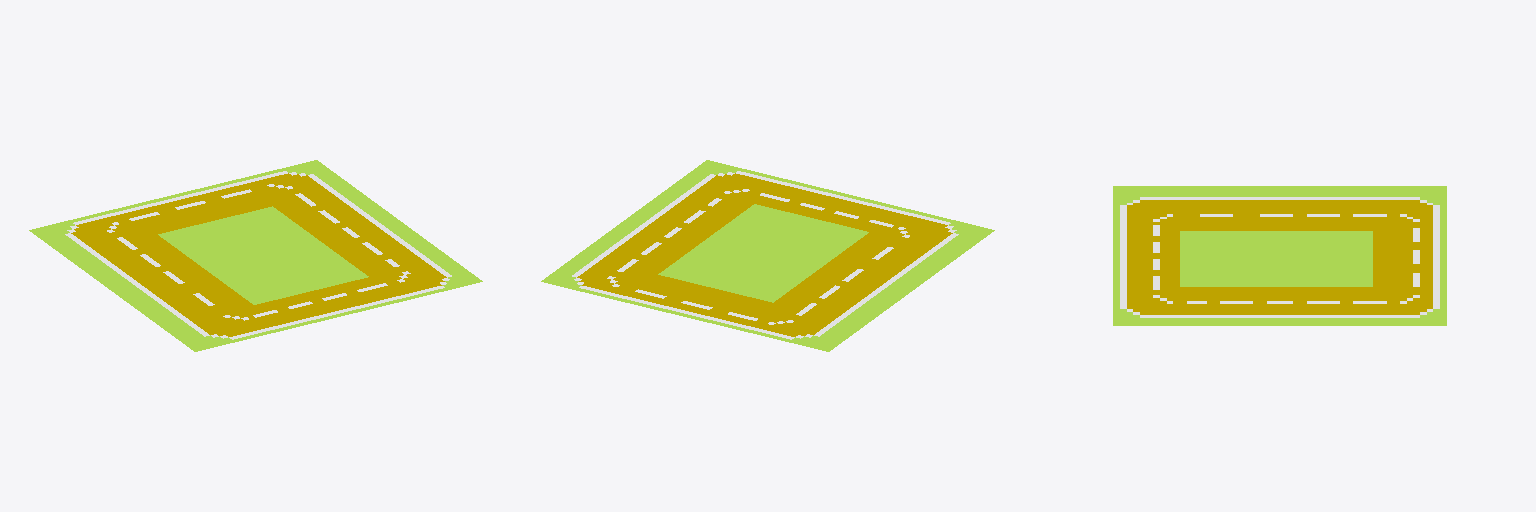
3 views of the same model, side by side, from view 1: azimuth 30°, elevation 25°; view 2: azimuth 150°, elevation 25°; view 3: azimuth 270°, elevation 25° (orthographic).
Parts seen in each view (by area): view 1: Plane; view 2: Plane; view 3: Plane.
Part boxes in pixels (x1,y1,x2,y2): Plane: (29,160,482,351); Plane: (541,160,994,351); Plane: (1113,186,1446,325).
Size of the model in its own units: 100 by 0 by 100.
1 materials, 1 textured.